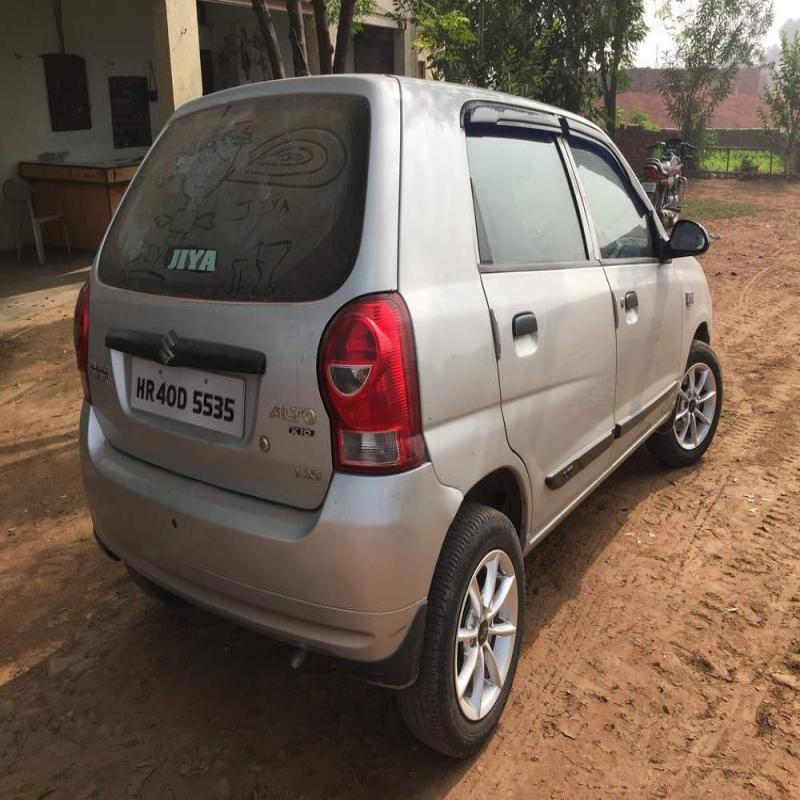car: (63, 35, 714, 717)
